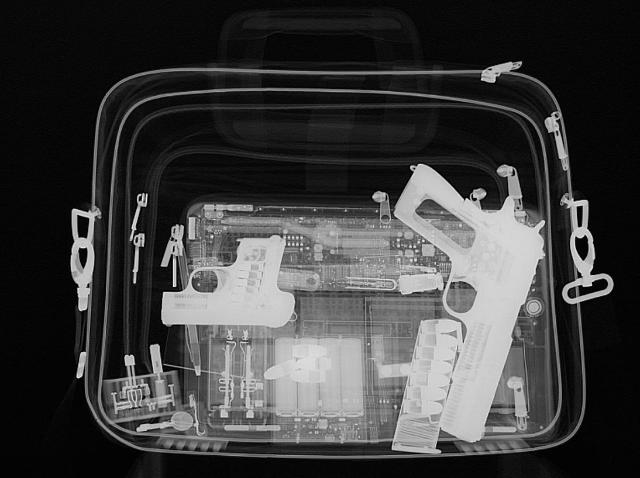Gun: (385, 157, 547, 442), (156, 230, 302, 326)
